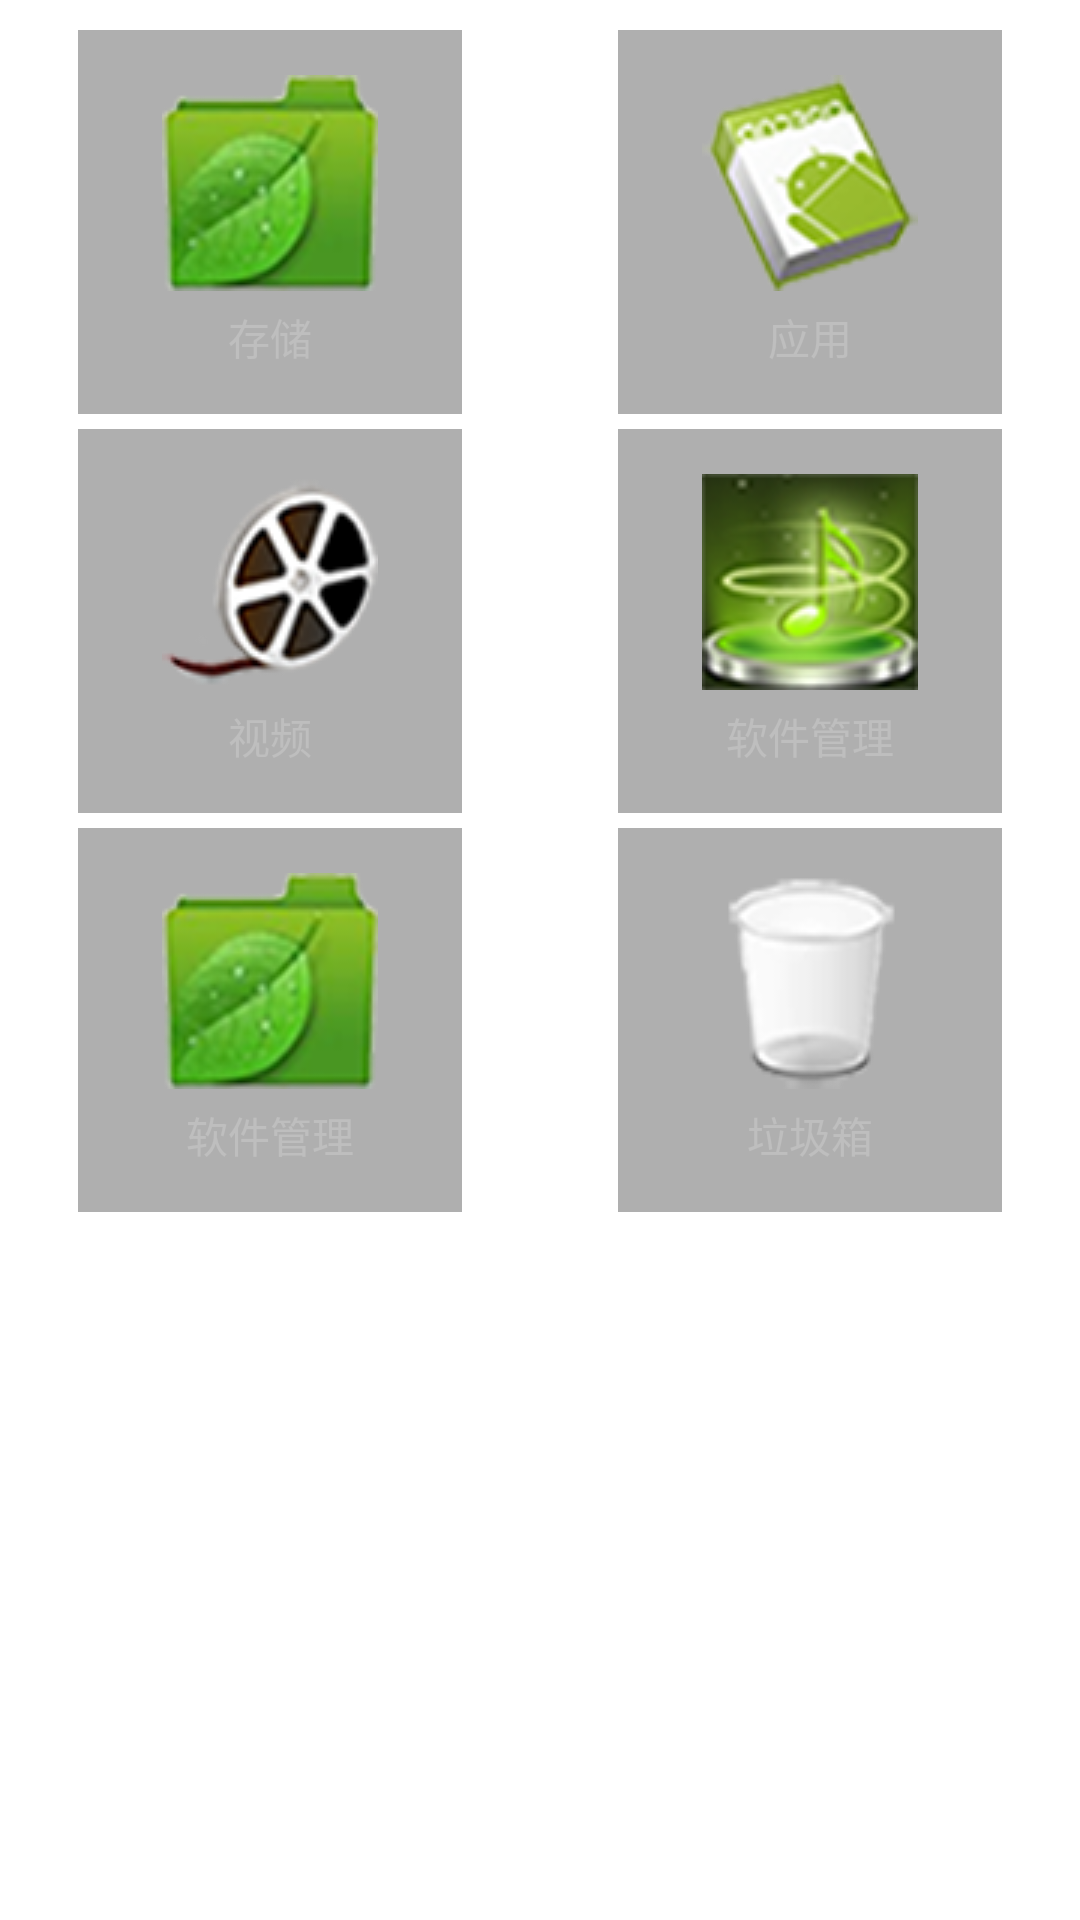

Icons on this 1080w x 1920h Android screen, each with its box as (x1, y1, x2, y2):
folder: (164, 75, 378, 291), (164, 873, 378, 1089)
music: (702, 474, 918, 690)
